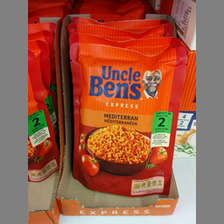rice: (68, 33, 187, 198)
